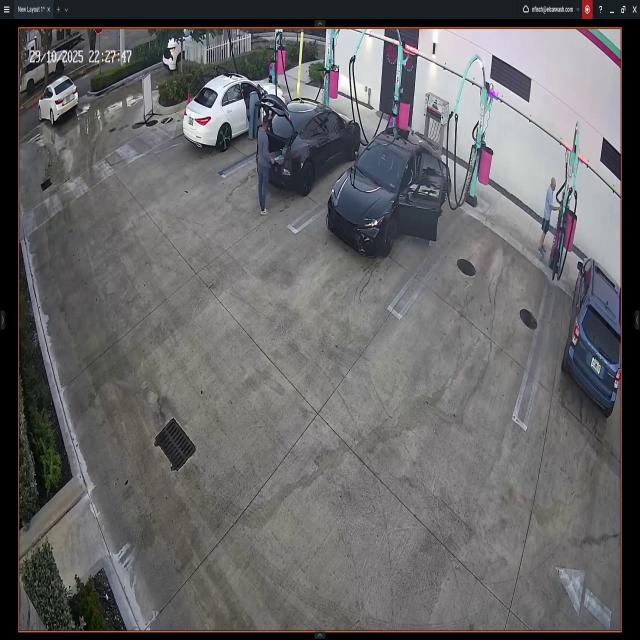Car: (328, 128, 451, 256), (255, 97, 362, 193), (566, 253, 622, 418), (186, 75, 287, 156), (36, 78, 80, 131), (158, 32, 188, 70)
